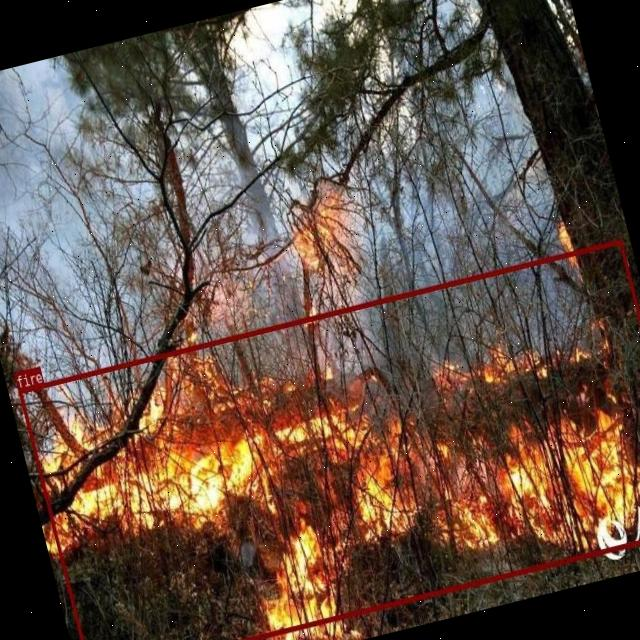fire: (17, 238, 640, 640)
